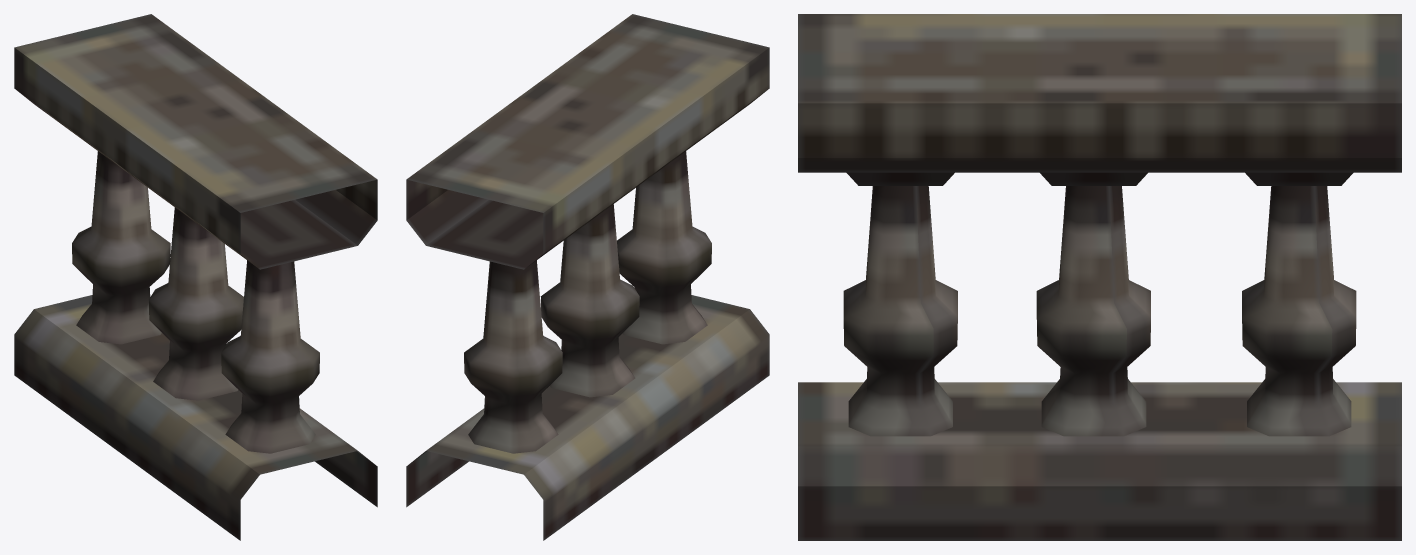
File: EnvBdgMD_Mansion_A_Outdoor_Fence_A.FBX
3 renders of one model, left to right at view 1: azimuth 30°, elevation 25°; view 2: azimuth 150°, elevation 25°; view 3: azimuth 270°, elevation 25°, orthographic. The views are drawn at different scales.
Visible parts, largest first — view 1: EnvBdgMD_Mansion_A_Outdoor_Fence_A; view 2: EnvBdgMD_Mansion_A_Outdoor_Fence_A; view 3: EnvBdgMD_Mansion_A_Outdoor_Fence_A.
Boxes of the visible parts, <box> form: EnvBdgMD_Mansion_A_Outdoor_Fence_A: <box>14,14,377,540</box>; EnvBdgMD_Mansion_A_Outdoor_Fence_A: <box>406,14,769,540</box>; EnvBdgMD_Mansion_A_Outdoor_Fence_A: <box>798,14,1401,540</box>.
Bounding box in the file's own units: 35 × 80 × 100.
Materials: 1 (1 with a texture image).
